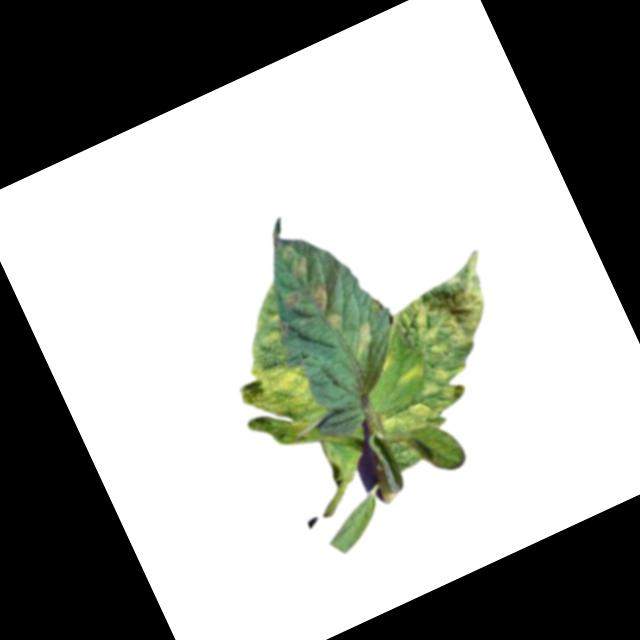Leaf_Mold: (383, 246, 526, 392), (225, 346, 328, 458), (377, 381, 468, 444), (346, 315, 385, 360), (306, 278, 339, 316), (284, 250, 316, 283), (393, 358, 426, 389), (323, 307, 347, 329)
